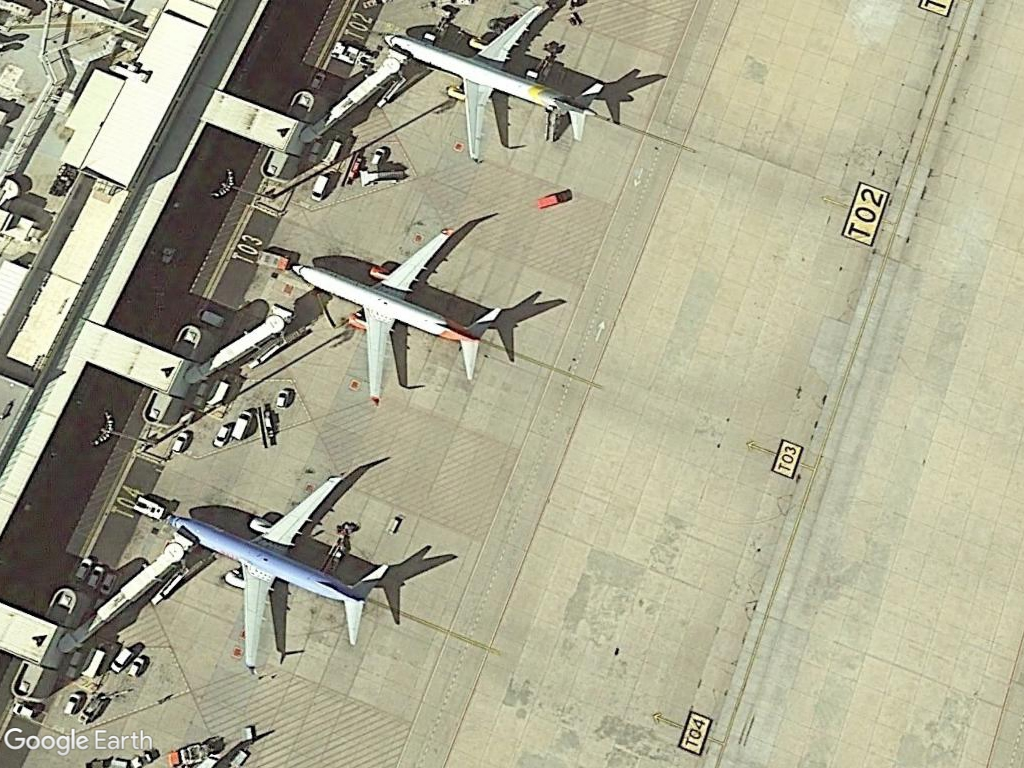airliner: (167, 465, 398, 681), (290, 219, 505, 408), (378, 1, 610, 169)
pushbacktruck: (125, 492, 167, 523)
stairtruck: (357, 163, 416, 189)
